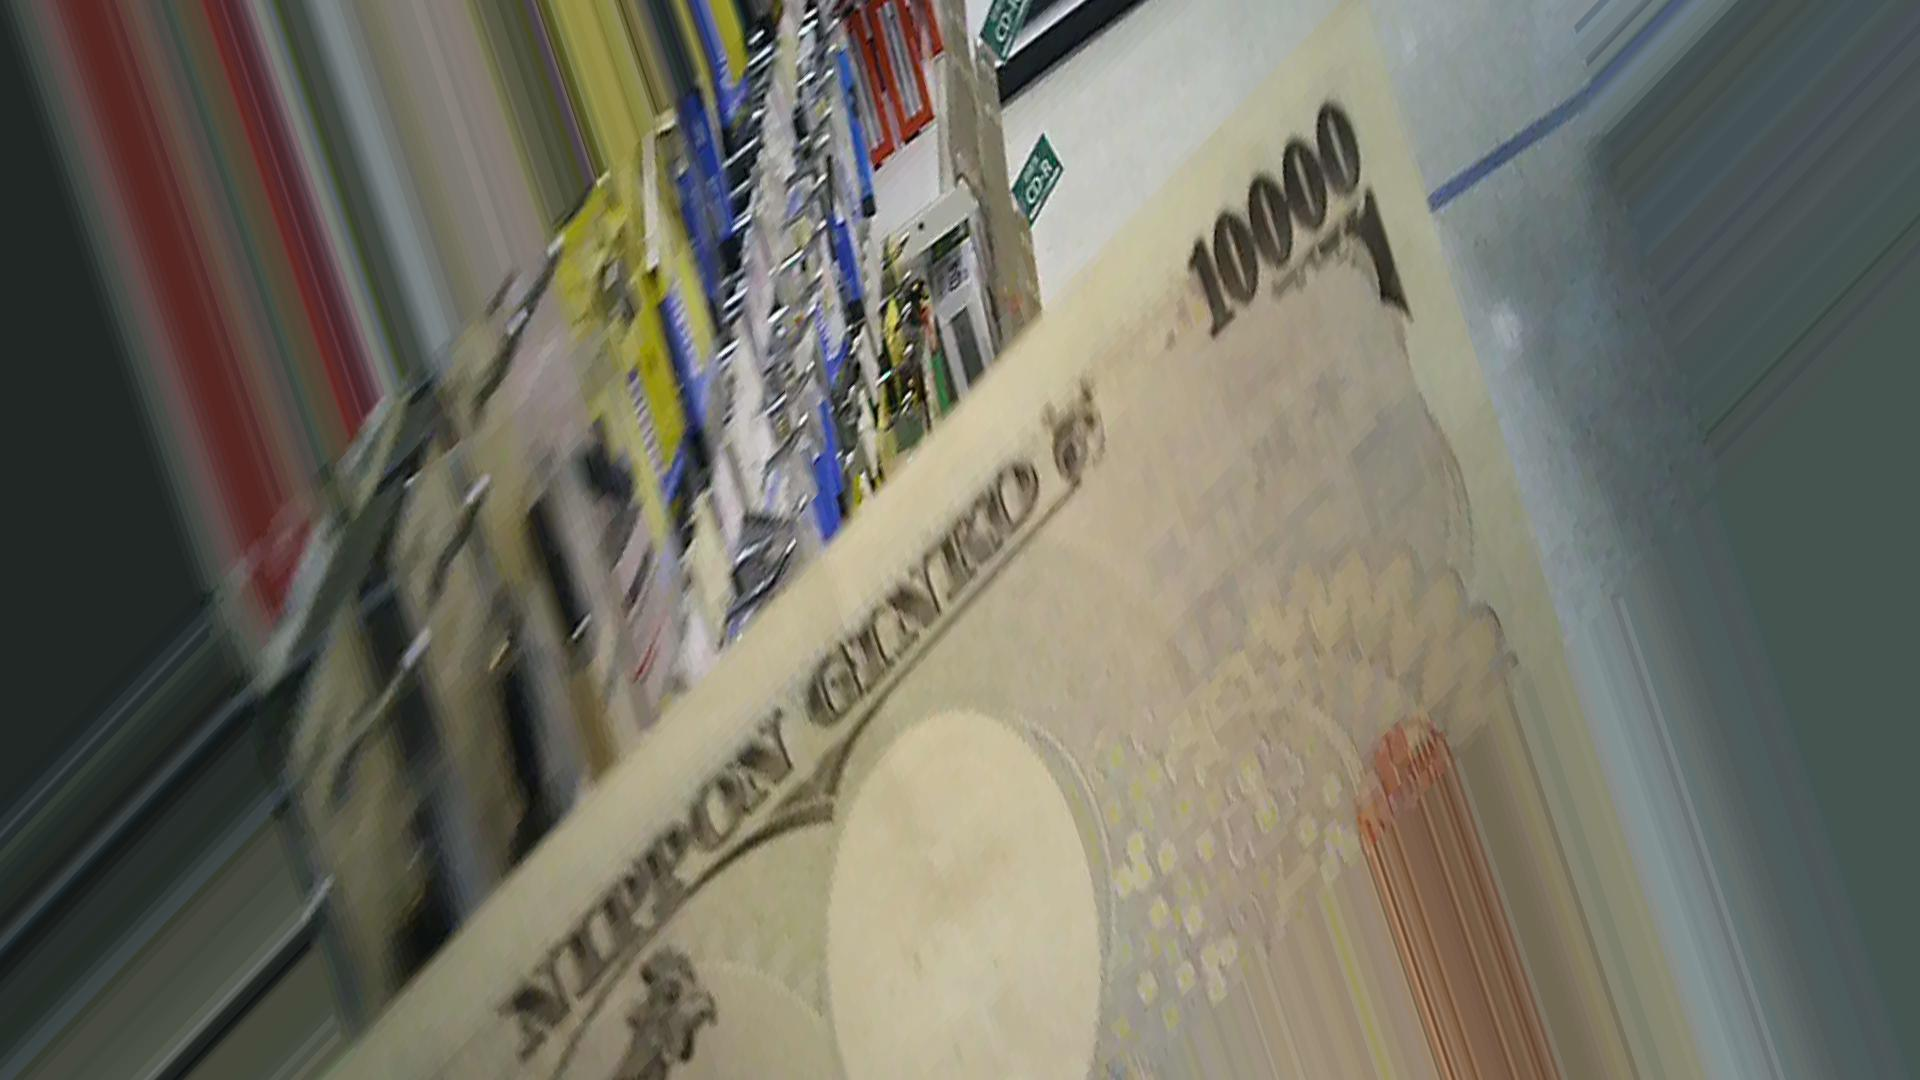10,000 Yen: (415, 69, 1456, 1073)
